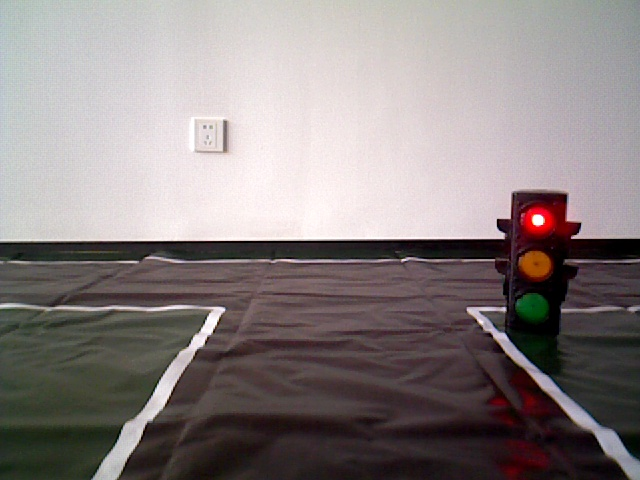red: (507, 196, 562, 330)
